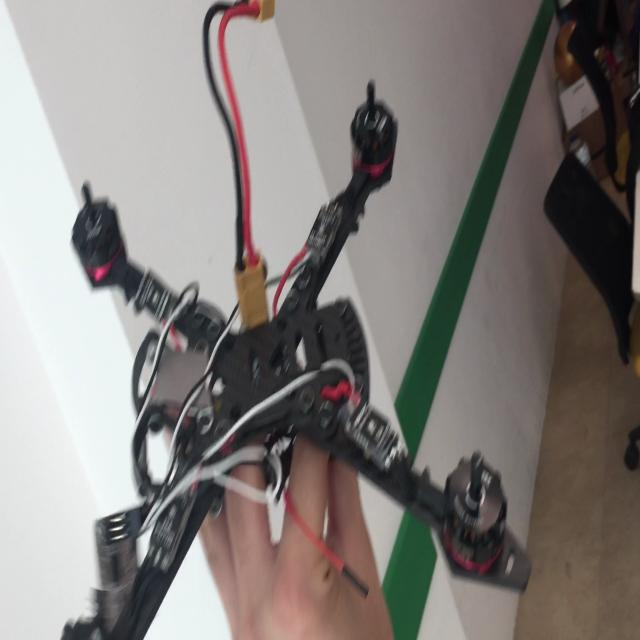drone: (51, 99, 539, 640)
